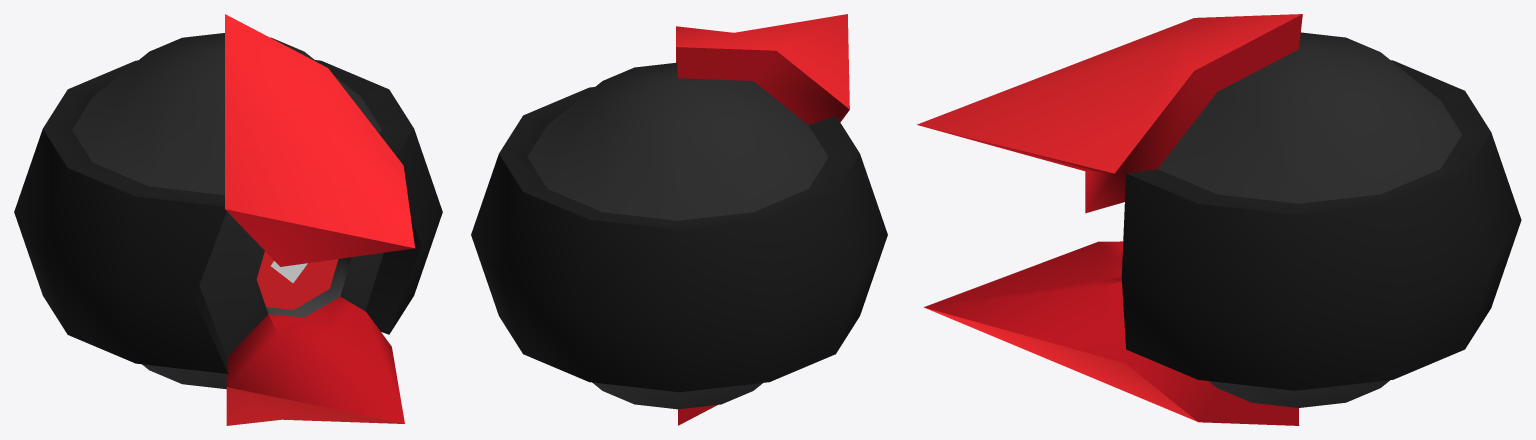
The model's file is Enemy_Test.fbx.
3 renders of one model, left to right at view 1: azimuth 30°, elevation 25°; view 2: azimuth 150°, elevation 25°; view 3: azimuth 270°, elevation 25°, orthographic. The views are drawn at different scales.
Visible parts, largest first — view 1: Sphere; view 2: Sphere; view 3: Sphere.
Boxes of the visible parts, left/top/right/bottom form: Sphere: left=14, top=14, right=442, bottom=425; Sphere: left=471, top=14, right=887, bottom=425; Sphere: left=917, top=14, right=1521, bottom=425.
Size of the model in its own units: 240 by 241 by 321.
